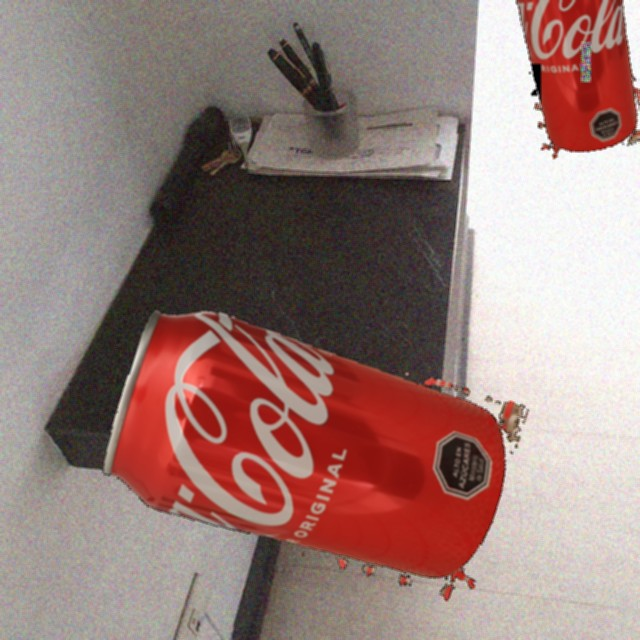coca cola: (93, 292, 529, 606), (509, 0, 640, 160)
